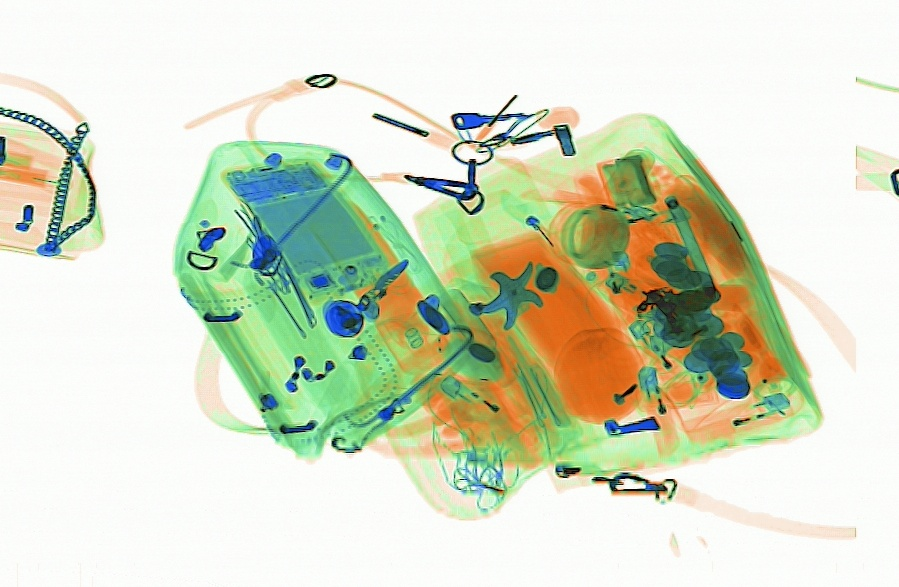lighter: (680, 389, 792, 444), (437, 371, 530, 437), (602, 270, 683, 324), (636, 363, 682, 458), (625, 315, 680, 379)
